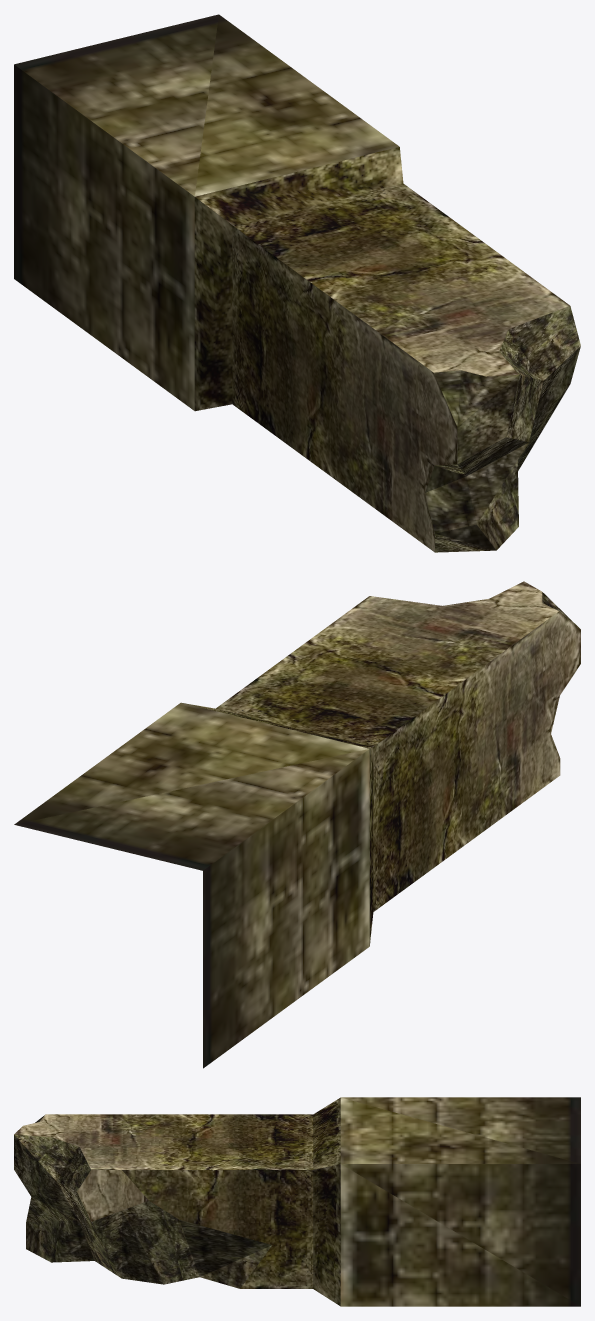
3 renders of one model, top to bottom at view 1: azimuth 30°, elevation 25°; view 2: azimuth 150°, elevation 25°; view 3: azimuth 270°, elevation 25°, orthographic. The views are drawn at different scales.
Parts seen in each view (by area): view 1: model_Object19; view 2: model_Object19; view 3: model_Object19.
Part boxes in pixels (x1=…): model_Object19: x1=14, y1=14, x2=580, y2=552; model_Object19: x1=14, y1=581, x2=580, y2=1068; model_Object19: x1=14, y1=1097, x2=580, y2=1306.
Bounding box in the file's own units: 0.8437 × 0.8437 × 3.04.
Materials: 3 (3 with a texture image).
